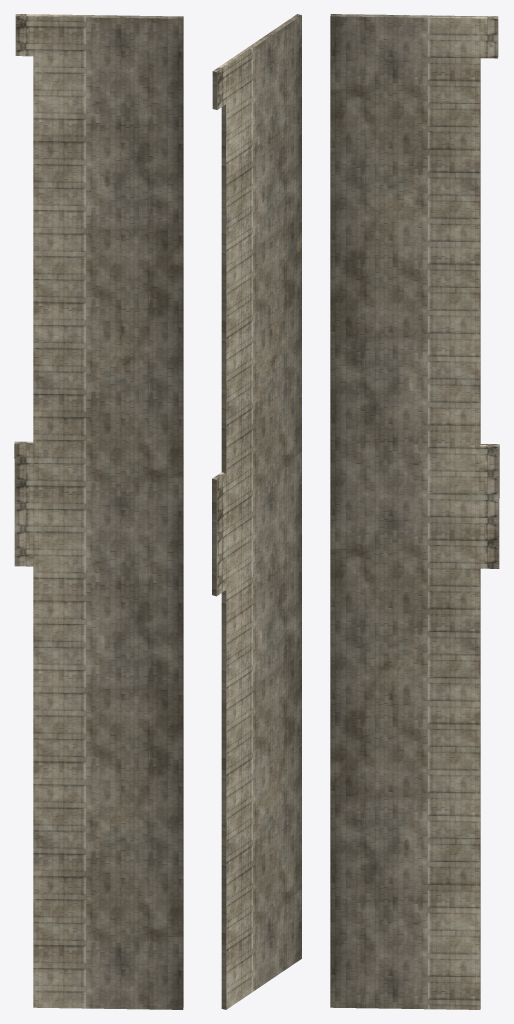
Rendered from walls_and_columns_4.fbx.
3 renders of one model, left to right at view 1: azimuth 90°, elevation 25°; view 2: azimuth 150°, elevation 25°; view 3: azimuth 270°, elevation 25°, orthographic. The views are drawn at different scales.
Visible parts, largest first — view 1: walls_and_columns_4; view 2: walls_and_columns_4; view 3: walls_and_columns_4.
Boxes of the visible parts, bbox=[...] form: walls_and_columns_4: bbox=[14, 14, 183, 1009]; walls_and_columns_4: bbox=[212, 14, 301, 1009]; walls_and_columns_4: bbox=[330, 14, 499, 1009].
Size of the model in its own units: 61.6 by 5866 by 907.
